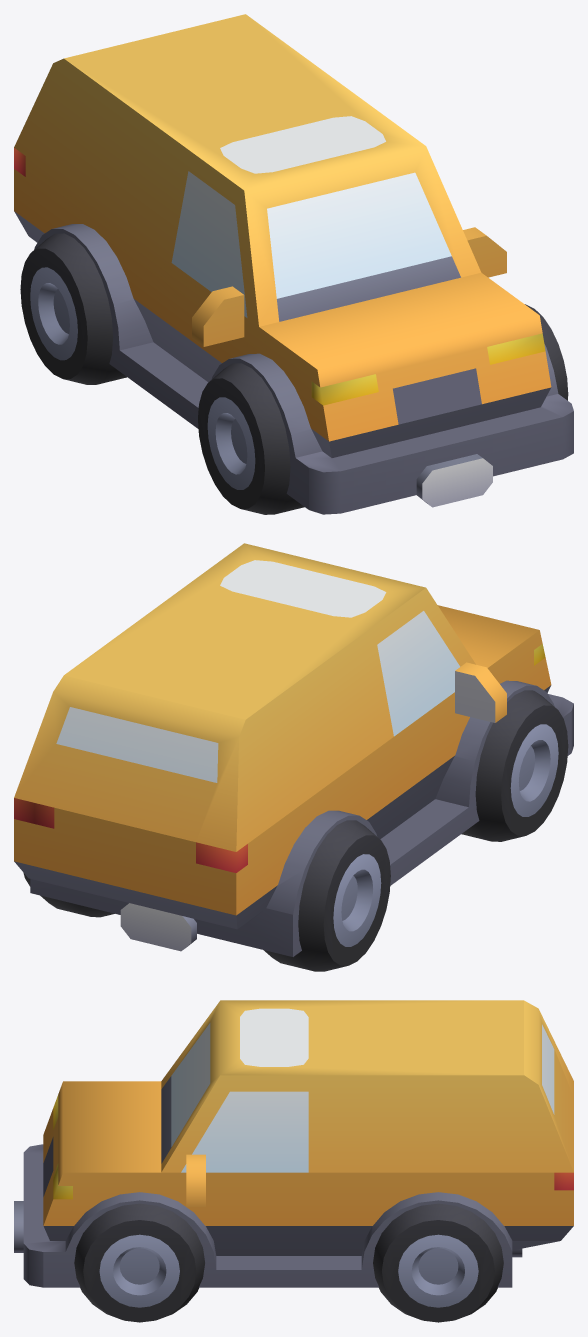
File: car_suvl.glb
The picture shows the model from 3 angles, top to bottom: view 1: azimuth 30°, elevation 25°; view 2: azimuth 150°, elevation 25°; view 3: azimuth 270°, elevation 25°; orthographic projection. The views are drawn at different scales.
Visible parts, largest first — view 1: body, wheel_rl_mesh, wheel_fl_mesh, wheel_fr_mesh; view 2: body, wheel_rl_mesh, wheel_fl_mesh, wheel_rr_mesh; view 3: body, wheel_rr_mesh, wheel_fr_mesh.
Boxes of the visible parts, box(x1,y1,x2,y2) form: body: box(14, 14, 573, 514); wheel_rl_mesh: box(20, 233, 126, 384); wheel_fl_mesh: box(198, 363, 304, 514); wheel_fr_mesh: box(525, 304, 568, 400); body: box(14, 543, 573, 956); wheel_rl_mesh: box(263, 820, 390, 971); wheel_fl_mesh: box(461, 690, 568, 841); wheel_rr_mesh: box(23, 873, 114, 917); body: box(14, 1000, 573, 1287); wheel_rr_mesh: box(373, 1203, 503, 1322); wheel_fr_mesh: box(74, 1203, 204, 1322).
Size of the model in its own units: 1.77 by 1.53 by 3.36.
1 material, 1 textured.
